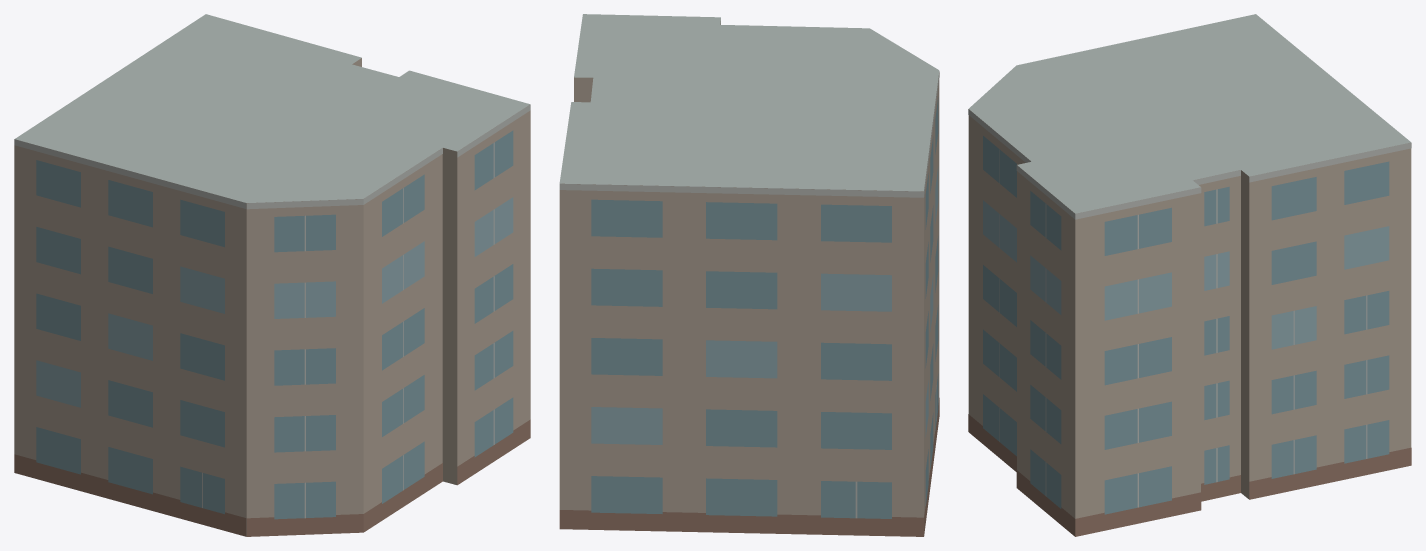
The model's file is survey-upis-32950849.glb.
3 views of the same model, side by side, from view 1: azimuth 30°, elevation 25°; view 2: azimuth 150°, elevation 25°; view 3: azimuth 270°, elevation 25° (orthographic). The views are drawn at different scales.
Parts seen in each view (by area): view 1: survey-upis-32950849.tmp; view 2: survey-upis-32950849.tmp; view 3: survey-upis-32950849.tmp.
Part boxes in pixels (box(x1,y1,x2,y2)): survey-upis-32950849.tmp: box(14, 14, 530, 536); survey-upis-32950849.tmp: box(559, 14, 939, 536); survey-upis-32950849.tmp: box(968, 14, 1411, 536).
Bounding box in the file's own units: 17.64 × 13.3 × 16.54.
